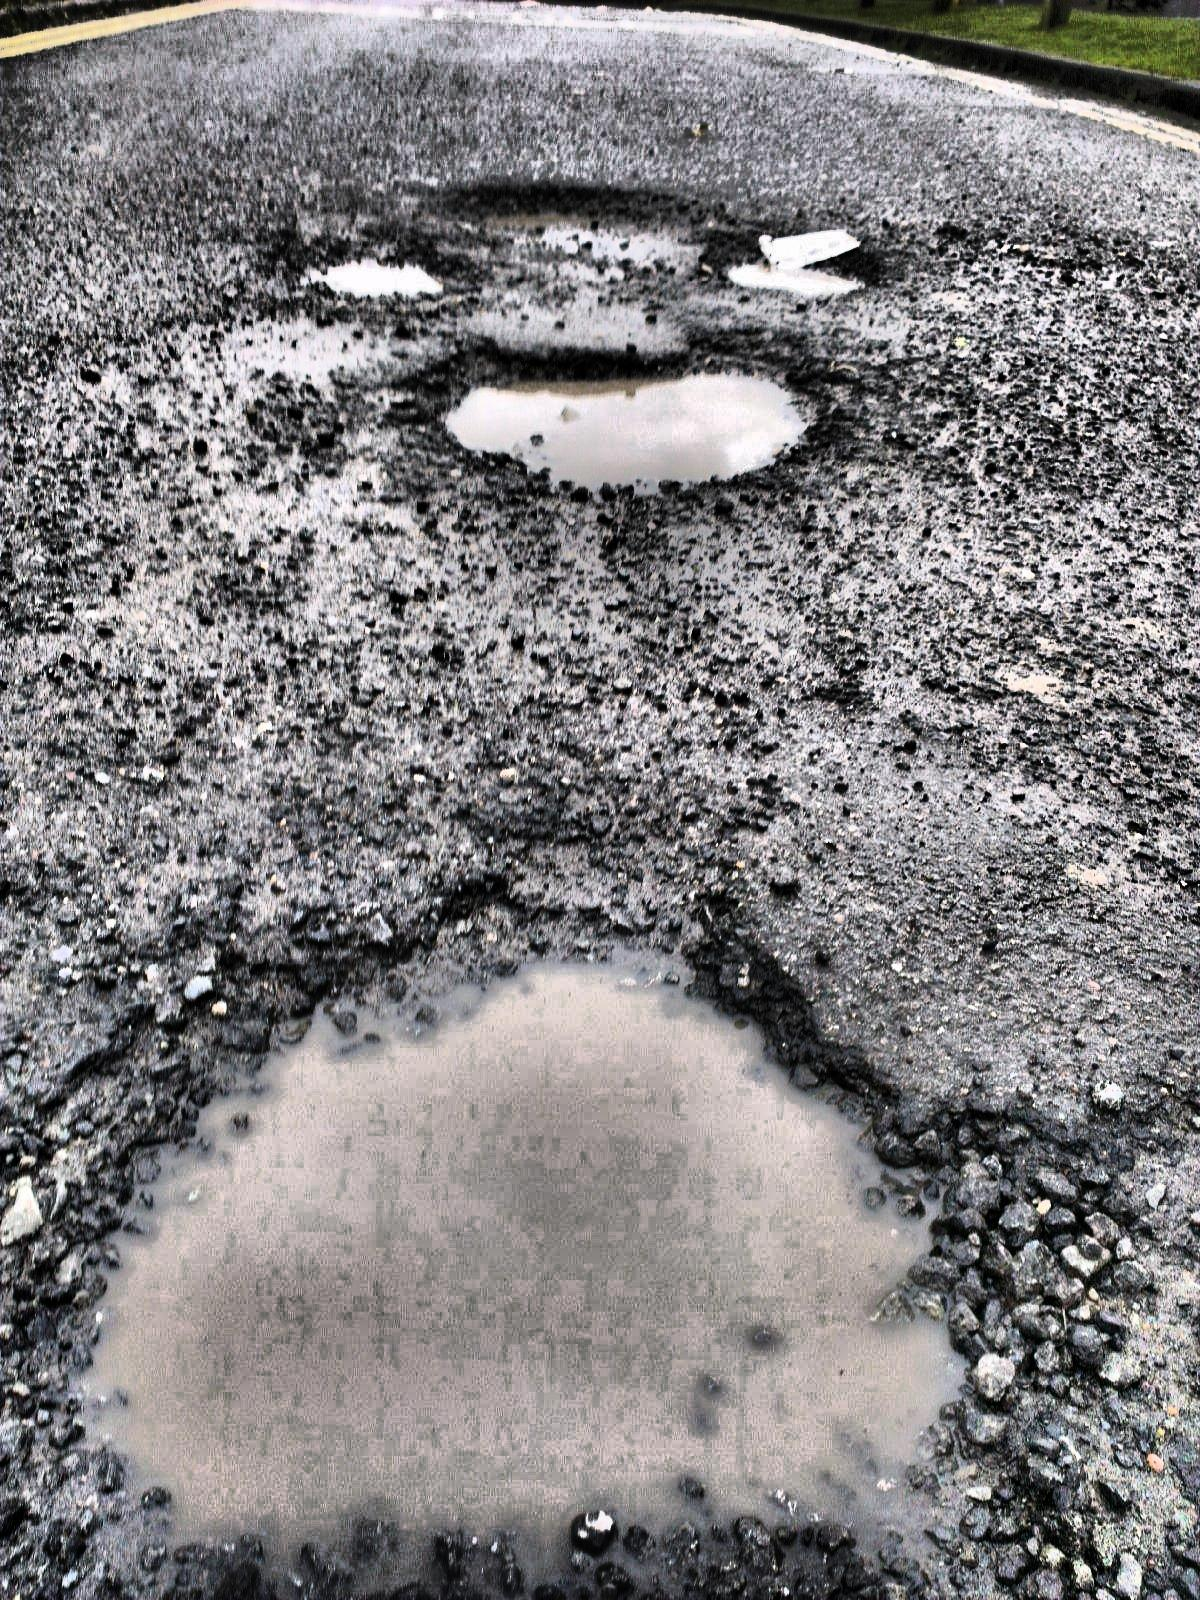pothole: (58, 871, 1055, 1580), (405, 335, 837, 508), (445, 173, 705, 270), (727, 223, 885, 310), (297, 242, 460, 305)
